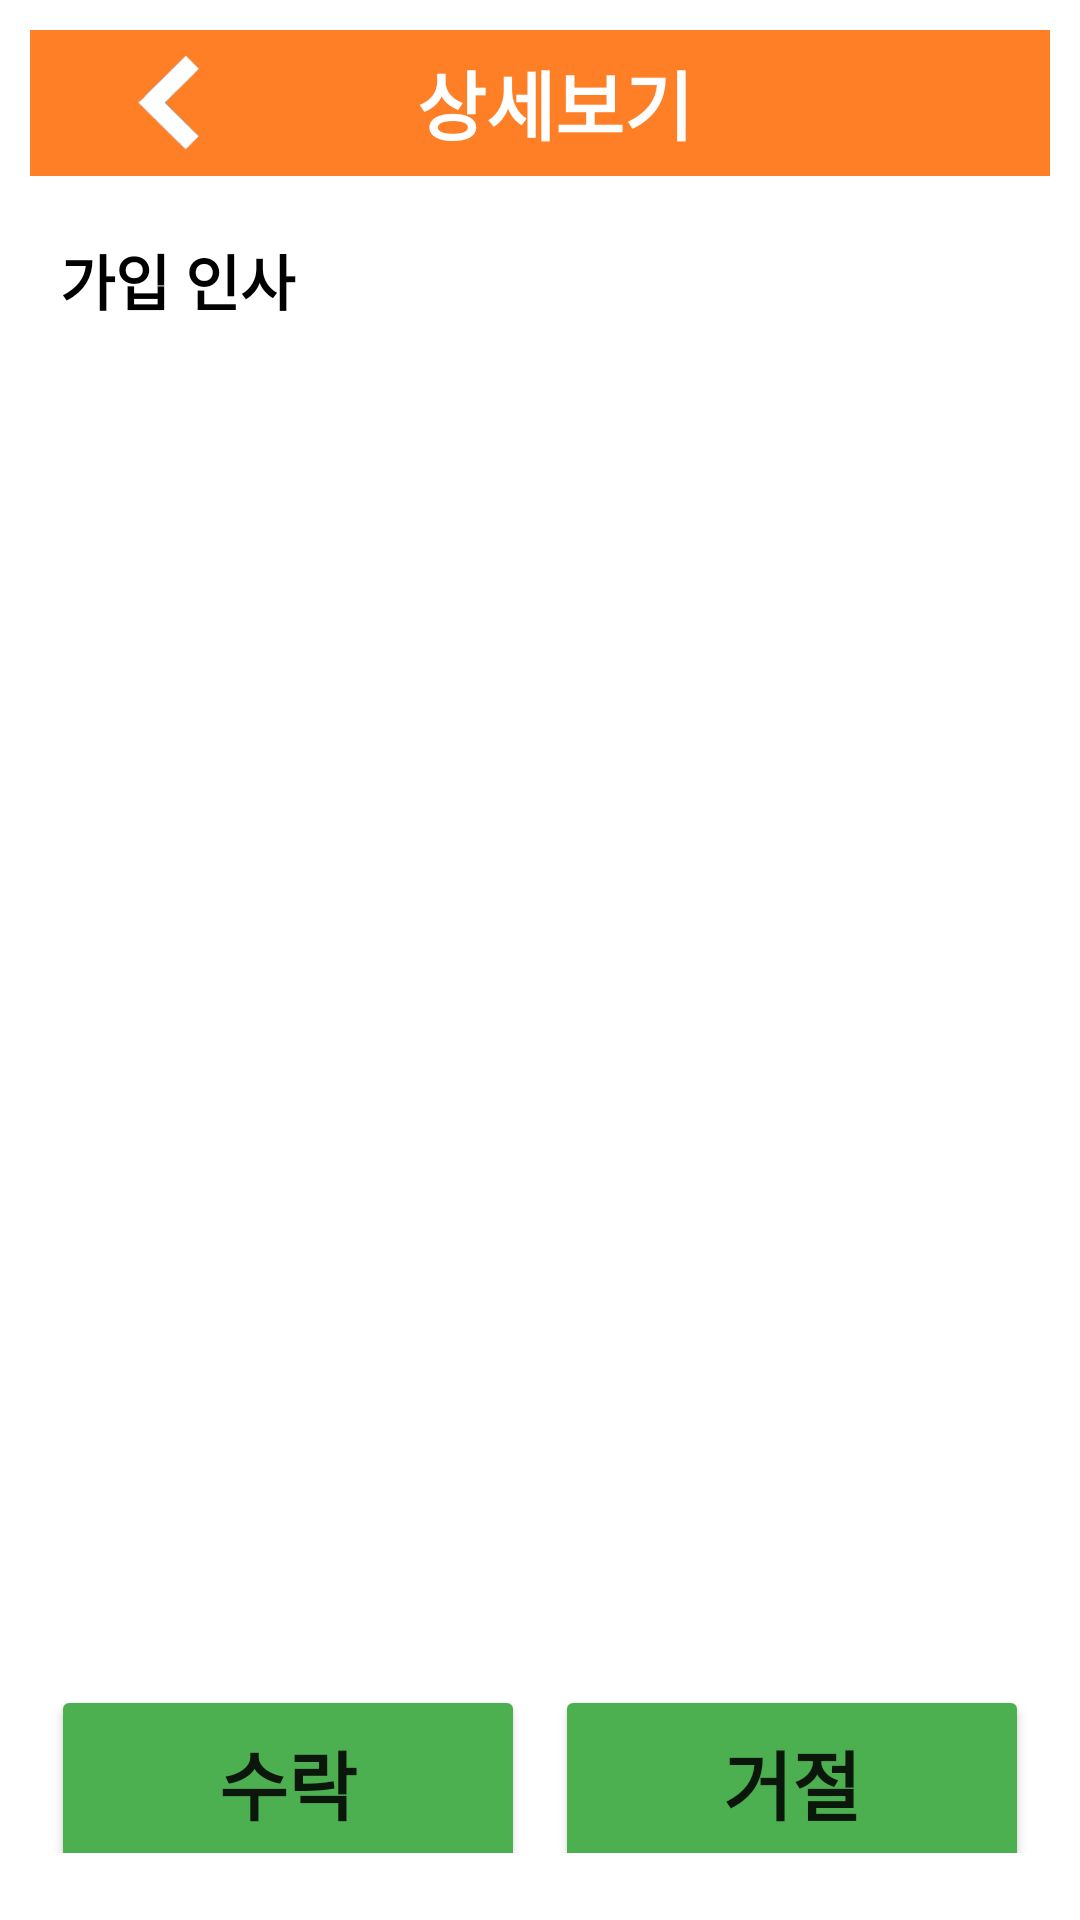

Where to tap for icons on this 1080px×1920px app screen, as (x,y):
backicon: (170,103)
